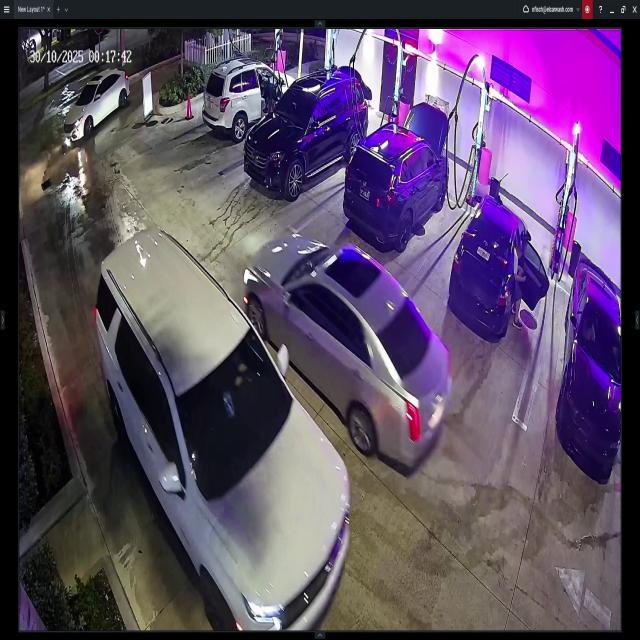Car: (93, 229, 349, 629), (255, 228, 450, 464), (253, 70, 370, 196), (351, 97, 447, 246), (558, 256, 622, 478), (459, 191, 546, 334), (206, 53, 296, 144), (61, 64, 128, 139)
